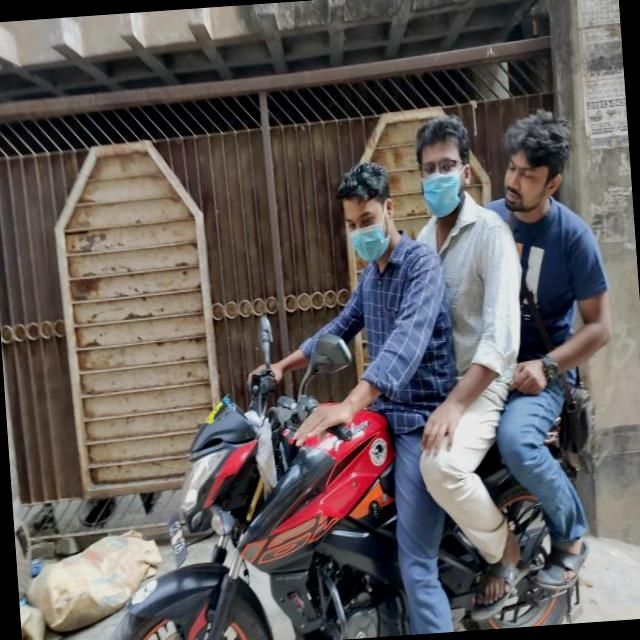motorcycle: (84, 349, 623, 640)
person: (482, 100, 630, 507), (322, 147, 479, 516), (403, 110, 537, 472)
